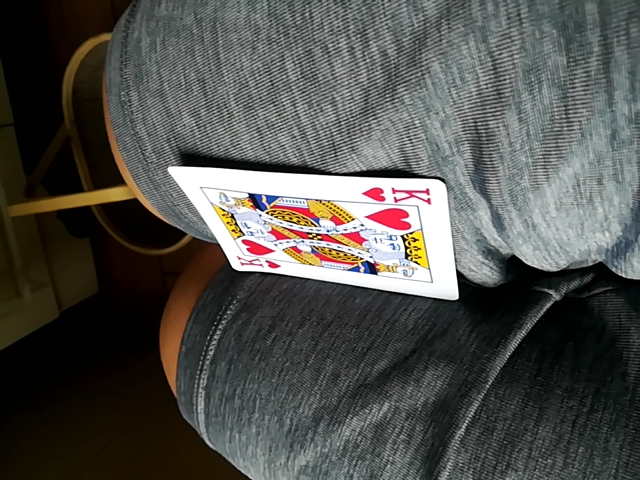hx k: (171, 169, 455, 299)
